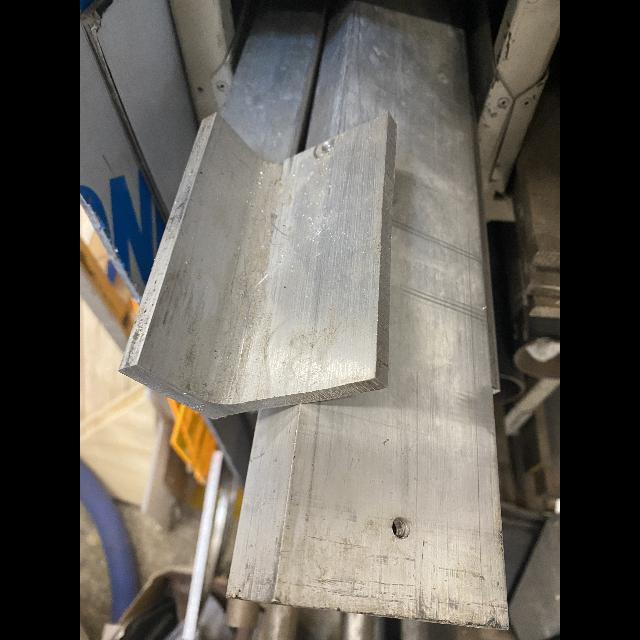Aluminium: (228, 1, 507, 629), (121, 115, 397, 419), (221, 11, 323, 164)
